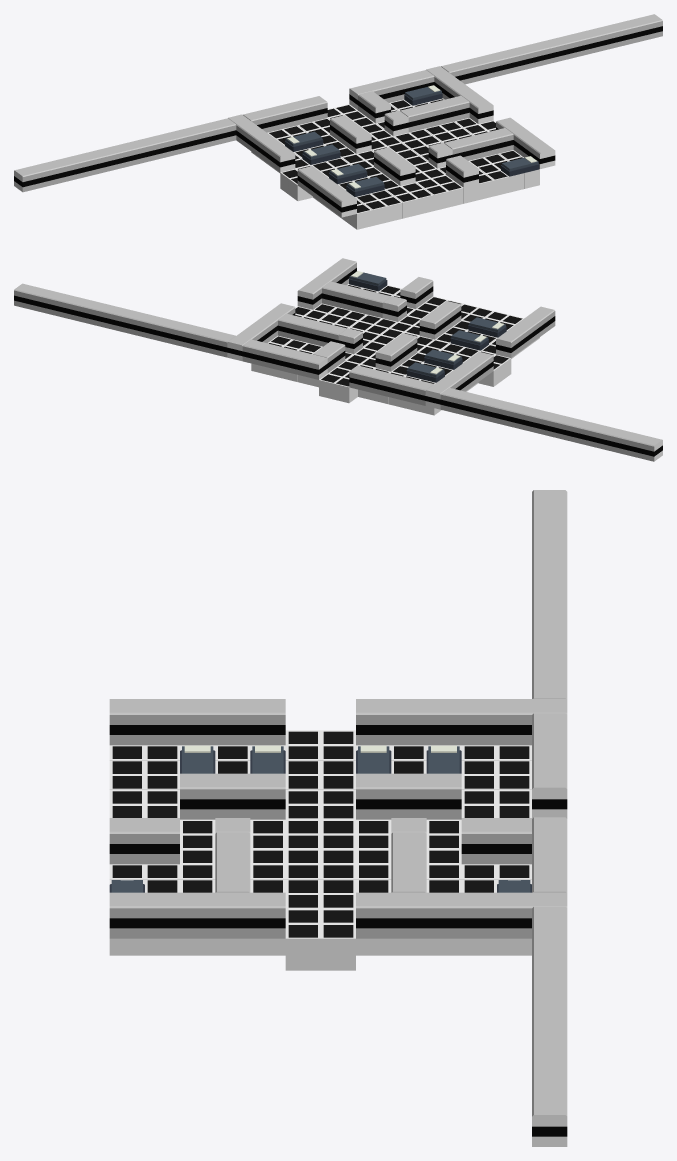
Rendered from bedroomLarge2.fbx.
The picture shows the model from 3 angles, top to bottom: view 1: azimuth 30°, elevation 25°; view 2: azimuth 150°, elevation 25°; view 3: azimuth 270°, elevation 25°; orthographic projection. The views are drawn at different scales.
Visible parts, largest first — view 1: Cube.237, Cube.014, Cube.159, Cube.007, Cube.158, Cube.236, Cube.181, Cube.200, Cube.216, Cube.197, Cube.011, Cube.183 (+52 smaller); view 2: Cube.159, Cube.014, Cube.236, Cube.007, Cube.158, Cube.168, Cube.005, Cube.202, Cube.009, Cube.199, Cube.226, Cube.179 (+50 smaller); view 3: Cube.176, Cube.179, Cube.202, Cube.205, Cube.009, Cube.006, Cube.005, Cube.175, Cube.177, Cube.181, Cube.183, Cube.184 (+26 smaller).
Part boxes in pixels (left/top/right/bottom): Cube.237: left=404, top=85, right=442, bottom=105; Cube.014: left=302, top=144, right=340, bottom=164; Cube.159: left=329, top=164, right=367, bottom=184; Cube.007: left=285, top=131, right=323, bottom=151; Cube.158: left=346, top=177, right=384, bottom=196; Cube.236: left=501, top=156, right=539, bottom=176; Cube.181: left=271, top=146, right=295, bottom=172; Cube.200: left=469, top=98, right=493, bottom=123; Cube.216: left=384, top=110, right=408, bottom=136; Cube.197: left=391, top=160, right=415, bottom=185; Cube.011: left=347, top=128, right=371, bottom=153; Cube.183: left=333, top=191, right=356, bottom=217; Cube.159: left=450, top=330, right=488, bottom=350; Cube.014: left=424, top=349, right=462, bottom=369; Cube.236: left=349, top=271, right=387, bottom=291; Cube.007: left=406, top=362, right=444, bottom=382; Cube.158: left=468, top=317, right=506, bottom=337; Cube.168: left=303, top=354, right=327, bottom=379; Cube.005: left=375, top=346, right=399, bottom=371; Cube.202: left=297, top=284, right=321, bottom=309; Cube.009: left=419, top=313, right=443, bottom=339; Cube.199: left=382, top=296, right=406, bottom=321; Cube.226: left=639, top=436, right=662, bottom=461; Cube.179: left=496, top=332, right=519, bottom=357; Cube.176: left=391, top=699, right=426, bottom=745; Cube.179: left=250, top=699, right=285, bottom=745; Cube.202: left=250, top=892, right=285, bottom=938; Cube.205: left=391, top=892, right=426, bottom=938; Cube.009: left=250, top=773, right=285, bottom=819; Cube.006: left=285, top=924, right=320, bottom=970; Cube.005: left=426, top=773, right=461, bottom=819; Cube.175: left=461, top=699, right=496, bottom=745; Cube.177: left=426, top=699, right=461, bottom=745; Cube.181: left=356, top=699, right=391, bottom=745; Cube.183: left=109, top=699, right=144, bottom=745; Cube.184: left=180, top=699, right=215, bottom=745.
Bounding box in the file's own units: 8400 × 400 × 2600.
